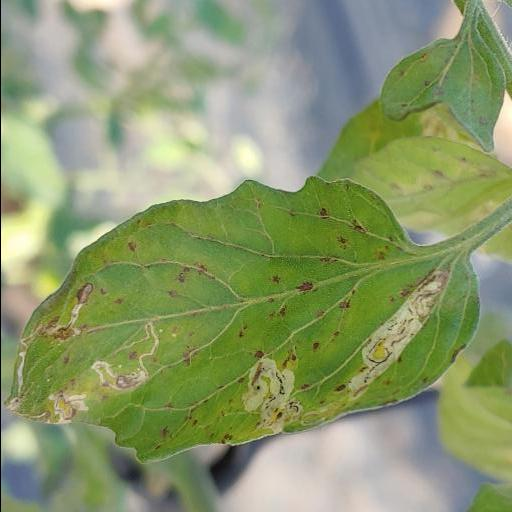Leaf Miner: (3, 174, 479, 463)
